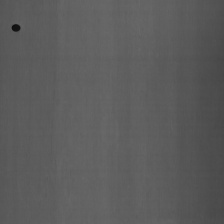punching_hole: (9, 21, 21, 33)
